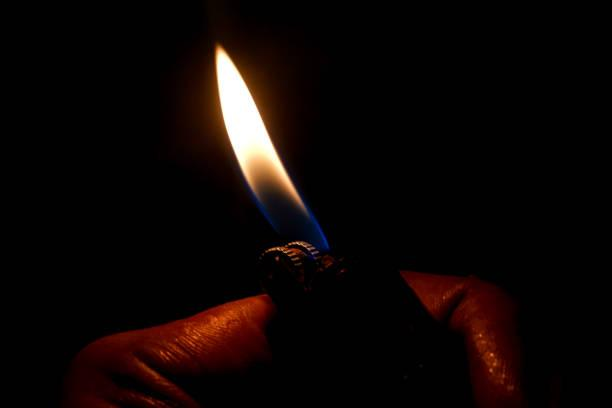Fire: (211, 40, 337, 247)
